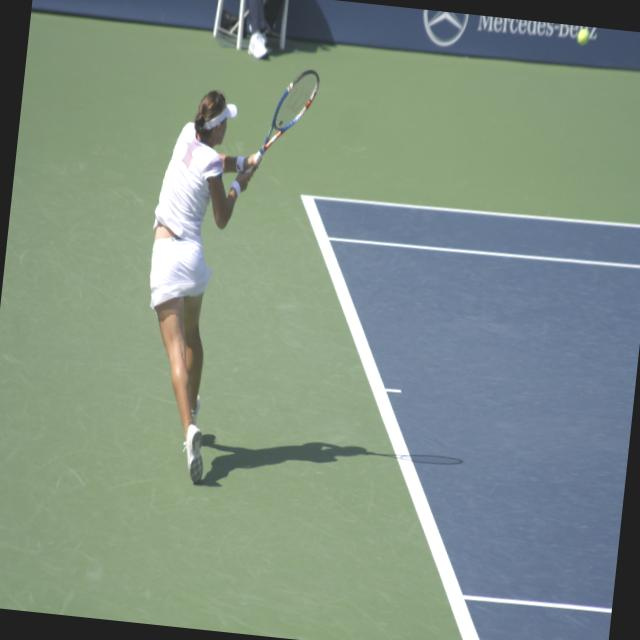Tennis Ball: (574, 27, 590, 46)
